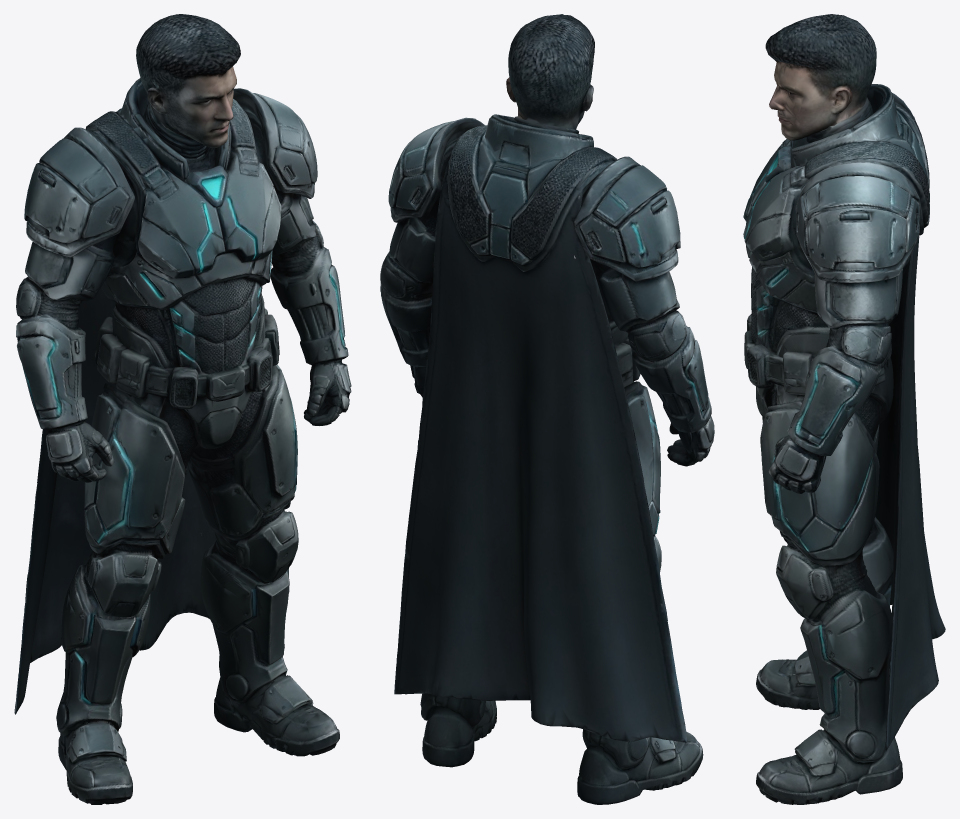
The model's file is croxian_mascar.glb.
3 renders of one model, left to right at view 1: azimuth 30°, elevation 25°; view 2: azimuth 150°, elevation 25°; view 3: azimuth 270°, elevation 25°, orthographic.
Parts seen in each view (by area): view 1: tripo_node_60742466-00db-4b6c-8393-3720d0d7bee3; view 2: tripo_node_60742466-00db-4b6c-8393-3720d0d7bee3; view 3: tripo_node_60742466-00db-4b6c-8393-3720d0d7bee3.
Part boxes in pixels (bbox=[...]): tripo_node_60742466-00db-4b6c-8393-3720d0d7bee3: bbox=[14, 14, 351, 804]; tripo_node_60742466-00db-4b6c-8393-3720d0d7bee3: bbox=[380, 14, 714, 804]; tripo_node_60742466-00db-4b6c-8393-3720d0d7bee3: bbox=[743, 14, 945, 804].
Size of the model in its own units: 0.4339 by 0.9779 by 0.2466.
1 material, 1 textured.
